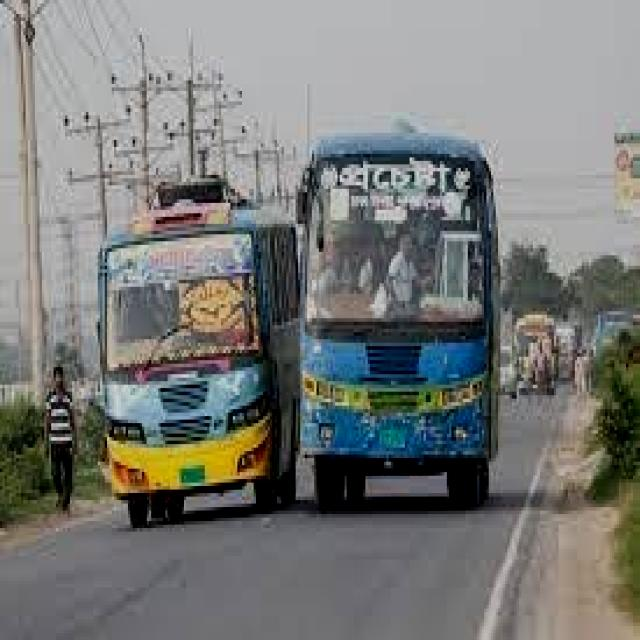bus: (295, 110, 507, 535), (92, 169, 288, 564)
